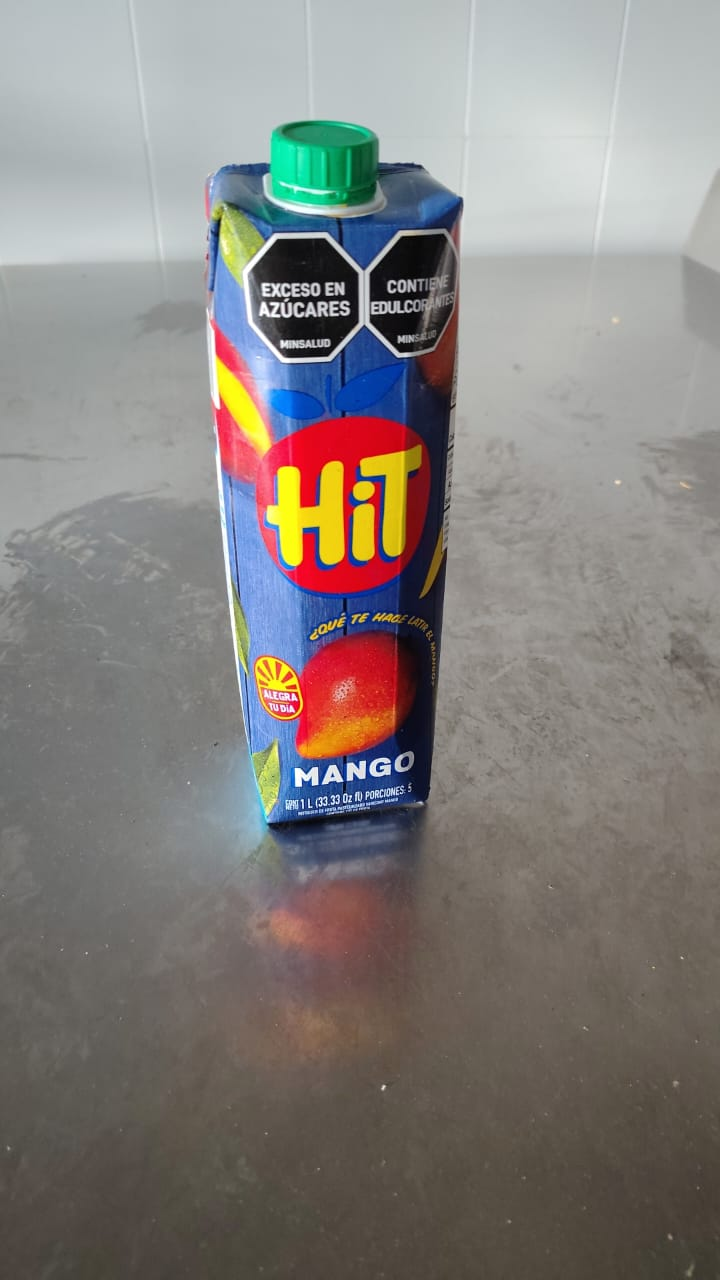Carton: (202, 161, 466, 827)
